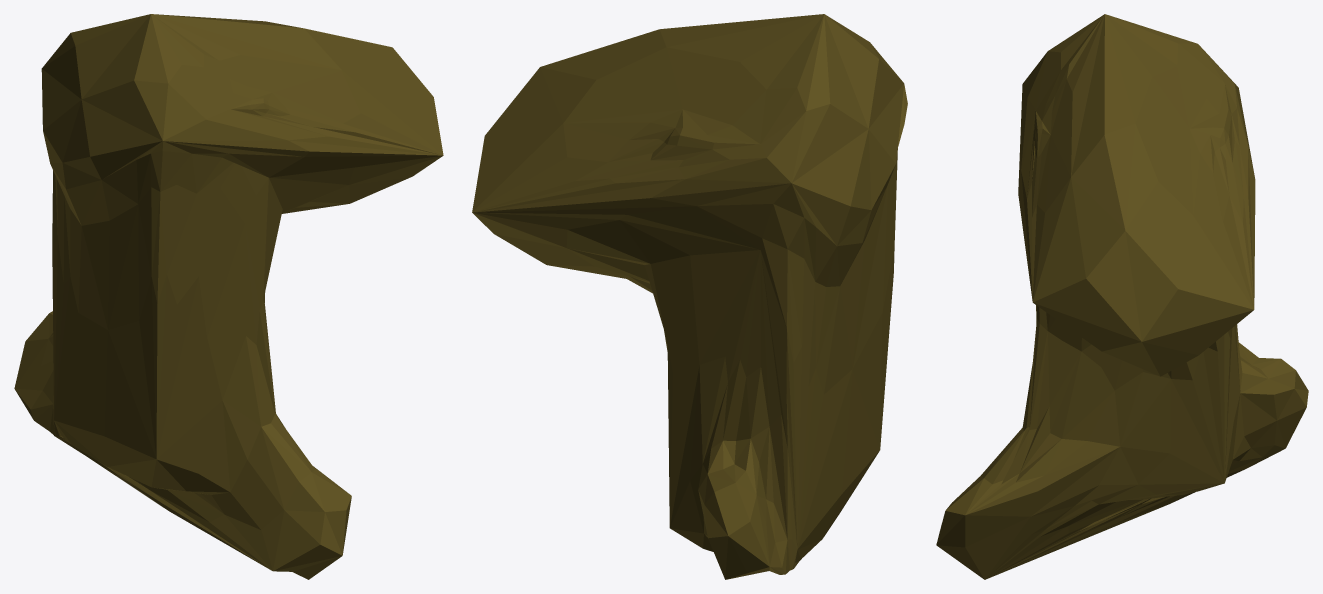
3 renders of one model, left to right at view 1: azimuth 30°, elevation 25°; view 2: azimuth 150°, elevation 25°; view 3: azimuth 270°, elevation 25°, orthographic. The views are drawn at different scales.
Parts seen in each view (by area): view 1: 916_Cube.3702; view 2: 916_Cube.3702; view 3: 916_Cube.3702.
Part boxes in pixels (box(x1,y1,x2,y2)): 916_Cube.3702: box(14, 14, 443, 579); 916_Cube.3702: box(472, 14, 907, 579); 916_Cube.3702: box(936, 14, 1308, 579).
Size of the model in its own units: 11.71 by 16.86 by 10.91.
